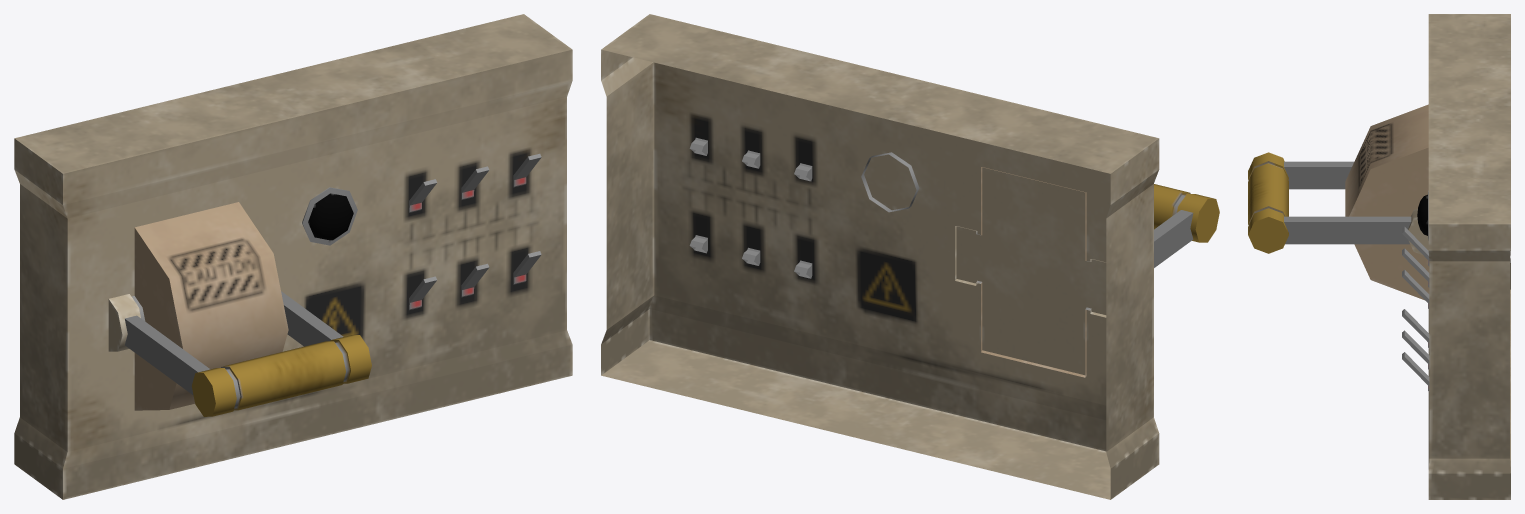
File: Dynamo.fbx
3 views of the same model, side by side, from view 1: azimuth 30°, elevation 25°; view 2: azimuth 150°, elevation 25°; view 3: azimuth 270°, elevation 25° (orthographic). The views are drawn at different scales.
Visible parts, largest first — view 1: Cylinder; view 2: Cylinder; view 3: Cylinder.
Part boxes in pixels (x1,y1,x2,y2): Cylinder: [14, 14, 572, 499]; Cylinder: [601, 14, 1219, 499]; Cylinder: [1248, 14, 1510, 499].
Bounding box in the file's own units: 6.53 × 3.45 × 3.99.
1 material, 1 textured.
